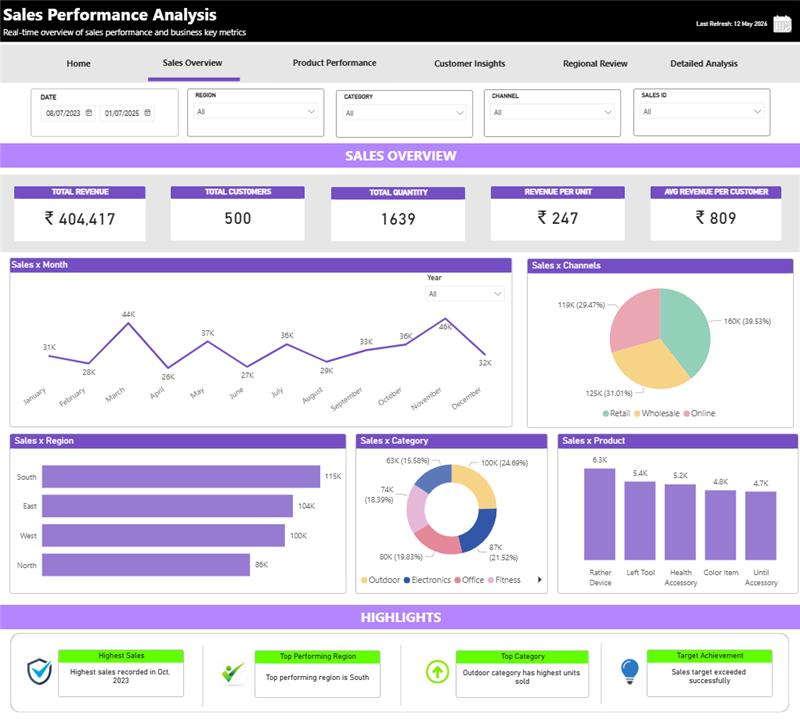

The page's visual inventory and layout, read from the dashboard file:
{"tool":"powerbi","page":{"name":"Sales Overview","canvas":[1280,1150],"ordinal":1},"visuals":[{"type":"textbox","box":[0,72,1398.9,61.1],"z":0},{"type":"shape","title":"Sales x Month","box":[14.8,412.7,803.4,270.6],"z":1000},{"type":"textbox","box":[0.5,280.4,1276.7,124],"z":2000},{"type":"lineChart","title":"Sales x Month","fields":{"Category":["Merge1.SaleDate.Variation.Date Hierarchy.Month"],"Y":["Merge1.Total Sales Amount"]},"box":[25.5,481.8,779.6,197.9],"z":3000},{"type":"textbox","box":[0,0,1280.2,68.2],"z":4000},{"type":"slicer","fields":{"Values":["Merge1.SaleDate"]},"box":[49.1,143,236,77.5],"z":5000},{"type":"slicer","fields":{"Values":["Products.Category"]},"box":[536.6,144.4,219.3,76.3],"z":6000},{"type":"textbox","box":[0,230.1,1280.2,39.3],"z":7000},{"type":"textbox","box":[0,39,593,32],"z":8000},{"type":"card","title":"AVG REVENUE PER CUSTOMER","fields":{"Values":["Sales.Avg Revenue per Customer"]},"box":[1037,298,211,89],"z":9000},{"type":"card","title":"TOTAL REVENUE","fields":{"Values":["Merge1.Total Sales Amount Display"]},"box":[21,298,212,90],"z":10000},{"type":"card","title":"TOTAL CUSTOMERS","fields":{"Values":["Merge1.Total Customers"]},"box":[271,298,216,89],"z":11000},{"type":"card","title":"TOTAL QUANTITY","fields":{"Values":["Sum(Merge1.Quantity)"]},"box":[527,299,216,89],"z":12000},{"type":"card","title":"REVENUE PER UNIT","fields":{"Values":["Merge1.Revenue Per Unit"]},"box":[783,298,216,89],"z":13000},{"type":"slicer","fields":{"Values":["Merge1.SaleDate.Variation.Date Hierarchy.Year"]},"box":[669,433,147,52],"z":14000},{"type":"pieChart","title":"Sales x Channels","fields":{"Category":["Merge1.SalesChannel"],"Y":["Merge1.Total Sales Amount"]},"box":[840.9,413.9,425.6,270.6],"z":15000},{"type":"barChart","title":"Sales x Region","fields":{"Category":["Regional Target.Region"],"Y":["Merge1.Total Sales Amount"]},"box":[14.8,694,537.6,256.3],"z":16000},{"type":"image","box":[1229.8,19.9,38.8,37.8],"z":17000},{"type":"slicer","fields":{"Values":["Regional Target.Region"]},"box":[299.2,143,219.3,77.5],"z":18000},{"type":"donutChart","title":"Sales x Category","fields":{"Category":["Products.Category"],"Y":["Merge1.Total Sales Amount"]},"box":[568,694,307,256],"z":19000},{"type":"slicer","fields":{"Values":["Merge1.SalesChannel"]},"box":[772.6,143.2,219.3,76.3],"z":20000},{"type":"actionButton","title":"Detailed Creative Button","box":[219.3,72.1,176.9,57.7],"z":21000},{"type":"shape","title":"Detailed Creative Line","box":[236.7,110.3,146.6,35.8],"z":22000},{"type":"shape","title":"Detailed Creative Line","box":[1063.3,105.4,122,39.4],"z":23000},{"type":"actionButton","title":"Detailed Creative Button","box":[1055,72,138,58],"z":24000},{"type":"shape","title":"Detailed Creative Line","box":[681.2,109.1,144.4,36.7],"z":25000},{"type":"actionButton","title":"Detailed Creative Button","box":[664.6,72.4,170,58.9],"z":26000},{"type":"shape","title":"Detailed Creative Line","box":[890.8,106.6,122,38.2],"z":27000},{"type":"actionButton","title":"Detailed Creative Button","box":[880,72,141,59],"z":28000},{"type":"shape","title":"Detailed Creative Line","box":[449.8,105.4,170,37],"z":29000},{"type":"actionButton","title":"Detailed Creative Button","box":[442.3,72.3,183.3,56.7],"z":30000},{"type":"shape","title":"Detailed Creative Line","box":[72.8,109.1,105.9,35.7],"z":31000},{"type":"actionButton","title":"Detailed Creative Button","box":[61.5,72.1,127.9,58.7],"z":32000},{"type":"slicer","fields":{"Values":["Sales.SaleID"]},"box":[1011,142,219.3,76.3],"z":33000},{"type":"columnChart","title":"Sales x Product","fields":{"Y":["Merge1.Total Sales Amount"],"Category":["Products.ProductName"]},"box":[890.4,693.8,385,256.3],"z":34000},{"type":"card","fields":{"Values":["Merge1.Last Refresh Date"]},"box":[1092.8,27.2,151.8,27.2],"z":35000},{"type":"textbox","box":[0,967,1280,39],"z":36000},{"type":"shape","box":[16,1013,1244,127],"z":37000},{"type":"shape","box":[292,1032,62,98],"z":38000},{"type":"shape","box":[609.1,1031.7,62.4,97.8],"z":39000},{"type":"shape","box":[928.2,1029.3,62.4,97.8],"z":40000},{"type":"image","box":[980,1049,52,52],"z":41000},{"type":"image","box":[36,1043,62,63],"z":42000},{"type":"card","title":"Highest Sales","fields":{"Values":["Sales.Highest Sales Month"]},"box":[93,1039,201,76],"z":43000},{"type":"card","title":"Target Achievement","fields":{"Values":["Sales.Target Insight"]},"box":[1032,1039,201,76],"z":44000},{"type":"card","title":"Top Category","fields":{"Values":["Products.Top Category Insight"]},"box":[727,1040,213,76],"z":45000},{"type":"card","title":"Top Performing Region","fields":{"Values":["Sales.Top Region Insight"]},"box":[406,1040,201,76],"z":46000},{"type":"image","box":[675,1048,47,53],"z":47000},{"type":"image","box":[341,1049,60,57],"z":48000}]}

Visuals, with their boxes in screenshot pixels (x1, y1, x2, y2), scaled from the page's 1280x1150 canvas onto the 800x726 screenshot:
textbox: bbox=(0, 45, 799, 84)
"Sales x Month" shape: bbox=(9, 261, 511, 431)
textbox: bbox=(0, 177, 798, 255)
"Sales x Month" lineChart: bbox=(16, 304, 503, 429)
textbox: bbox=(0, 0, 799, 43)
slicer - Merge1.SaleDate: bbox=(31, 90, 178, 139)
slicer - Products.Category: bbox=(335, 91, 472, 139)
textbox: bbox=(0, 145, 799, 170)
textbox: bbox=(0, 25, 371, 45)
"AVG REVENUE PER CUSTOMER" card: bbox=(648, 188, 780, 244)
"TOTAL REVENUE" card: bbox=(13, 188, 146, 245)
"TOTAL CUSTOMERS" card: bbox=(169, 188, 304, 244)
"TOTAL QUANTITY" card: bbox=(329, 189, 464, 245)
"REVENUE PER UNIT" card: bbox=(489, 188, 624, 244)
slicer - Merge1.SaleDate.Variation.Date Hierarchy.Year: bbox=(418, 273, 510, 306)
"Sales x Channels" pieChart: bbox=(526, 261, 792, 432)
"Sales x Region" barChart: bbox=(9, 438, 345, 600)
image: bbox=(769, 13, 793, 36)
slicer - Regional Target.Region: bbox=(187, 90, 324, 139)
"Sales x Category" donutChart: bbox=(355, 438, 547, 600)
slicer - Merge1.SalesChannel: bbox=(483, 90, 620, 139)
"Detailed Creative Button" actionButton: bbox=(137, 46, 248, 82)
"Detailed Creative Line" shape: bbox=(148, 70, 240, 92)
"Detailed Creative Line" shape: bbox=(665, 67, 741, 91)
"Detailed Creative Button" actionButton: bbox=(659, 45, 746, 82)
"Detailed Creative Line" shape: bbox=(426, 69, 516, 92)
"Detailed Creative Button" actionButton: bbox=(415, 46, 522, 83)
"Detailed Creative Line" shape: bbox=(557, 67, 633, 91)
"Detailed Creative Button" actionButton: bbox=(550, 45, 638, 83)
"Detailed Creative Line" shape: bbox=(281, 67, 387, 90)
"Detailed Creative Button" actionButton: bbox=(276, 46, 391, 81)
"Detailed Creative Line" shape: bbox=(46, 69, 112, 91)
"Detailed Creative Button" actionButton: bbox=(38, 46, 118, 83)
slicer - Sales.SaleID: bbox=(632, 90, 769, 138)
"Sales x Product" columnChart: bbox=(556, 438, 797, 600)
card - Merge1.Last Refresh Date: bbox=(683, 17, 778, 34)
textbox: bbox=(0, 610, 799, 635)
shape: bbox=(10, 640, 788, 720)
shape: bbox=(182, 652, 221, 713)
shape: bbox=(381, 651, 420, 713)
shape: bbox=(580, 650, 619, 712)
image: bbox=(612, 662, 645, 695)
image: bbox=(22, 658, 61, 698)
"Highest Sales" card: bbox=(58, 656, 184, 704)
"Target Achievement" card: bbox=(645, 656, 771, 704)
"Top Category" card: bbox=(454, 657, 588, 705)
"Top Performing Region" card: bbox=(254, 657, 379, 705)
image: bbox=(422, 662, 451, 695)
image: bbox=(213, 662, 251, 698)
